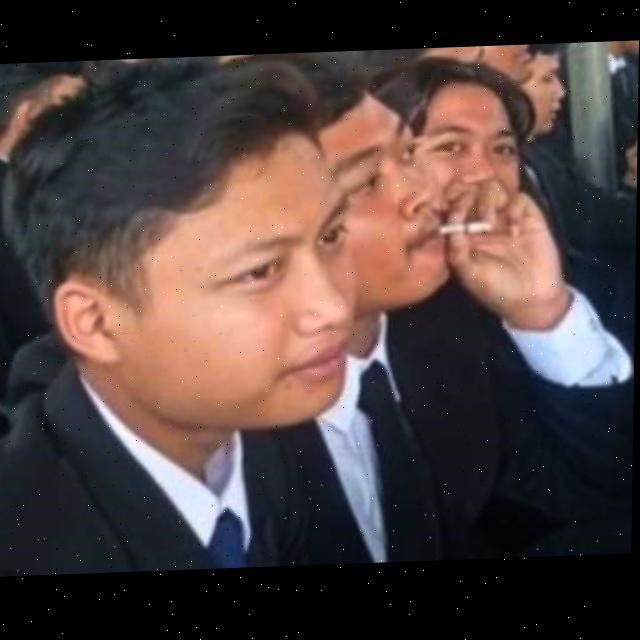cigarette: (440, 225, 493, 238)
